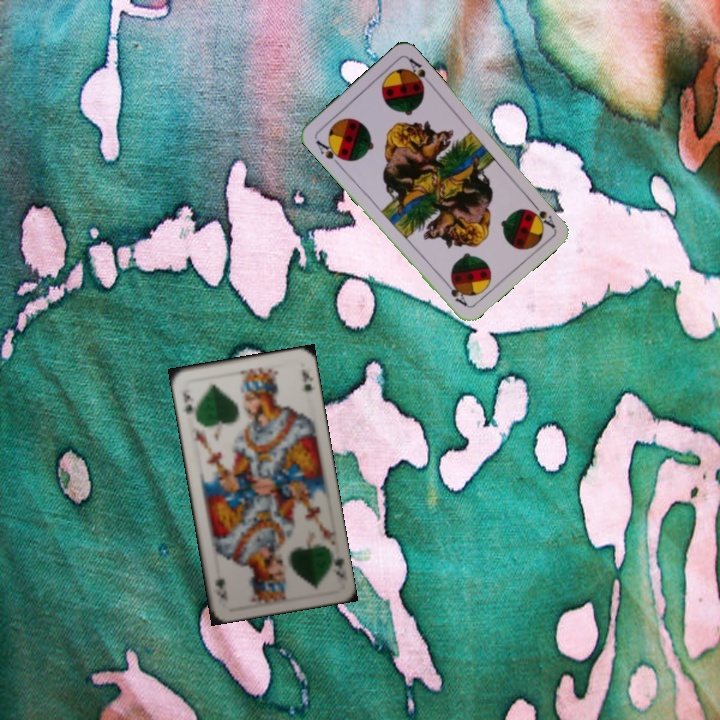GK: (179, 385, 197, 418), (330, 553, 346, 580)
SA: (312, 136, 347, 168), (527, 197, 558, 231)
